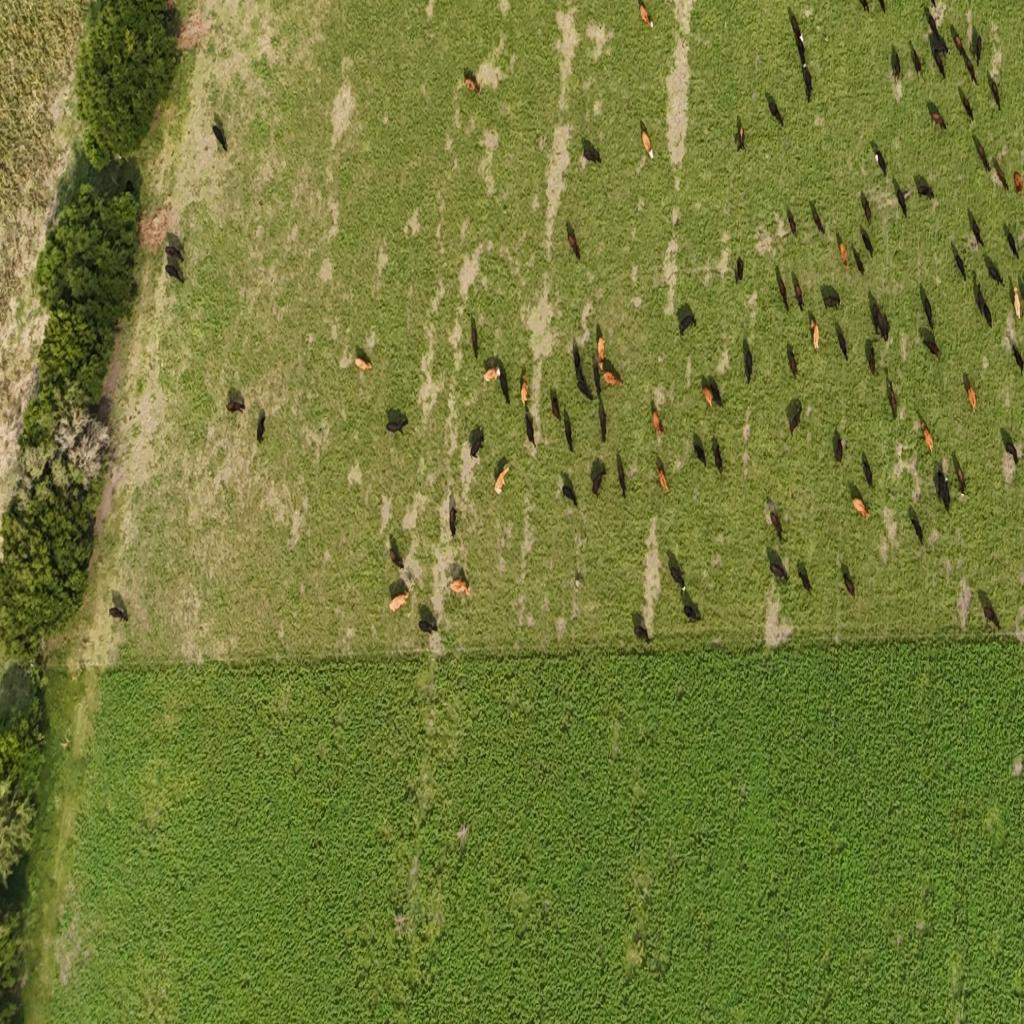cow: (979, 590, 1002, 633), (869, 295, 890, 342), (766, 546, 789, 584), (590, 456, 607, 500), (984, 252, 1004, 289), (952, 453, 968, 498), (926, 98, 946, 134), (677, 302, 697, 338), (973, 134, 991, 174), (668, 551, 686, 590), (920, 281, 934, 330), (968, 208, 984, 250), (908, 507, 924, 548), (682, 590, 702, 622), (920, 330, 941, 360), (958, 85, 974, 124), (632, 612, 651, 644), (871, 140, 887, 178), (787, 398, 802, 438), (914, 173, 935, 201), (640, 121, 654, 163), (592, 356, 605, 401), (987, 73, 1002, 112), (952, 244, 967, 283), (561, 474, 578, 508), (385, 409, 408, 434), (820, 284, 842, 310), (776, 265, 788, 312), (581, 138, 601, 166), (767, 93, 783, 128), (835, 320, 848, 362), (788, 9, 804, 43), (919, 418, 934, 454), (566, 221, 580, 259), (601, 364, 623, 388), (469, 425, 484, 460), (494, 464, 510, 496), (797, 561, 812, 595), (994, 157, 1009, 191), (841, 564, 855, 600), (498, 362, 510, 404), (1004, 224, 1018, 260), (692, 432, 706, 468), (164, 237, 184, 262), (563, 408, 574, 453), (389, 537, 404, 570), (811, 201, 825, 236), (388, 590, 410, 612), (212, 123, 228, 153), (616, 451, 626, 499), (769, 510, 784, 542), (832, 428, 844, 468), (970, 25, 982, 65), (894, 185, 908, 219), (801, 64, 813, 103), (910, 42, 923, 78), (887, 377, 898, 419), (597, 397, 607, 443), (743, 338, 753, 384), (524, 406, 535, 447), (793, 271, 804, 311), (852, 497, 870, 521), (712, 436, 723, 475), (787, 342, 798, 381), (890, 44, 901, 83), (861, 225, 874, 258), (932, 48, 946, 78), (464, 68, 480, 94), (852, 244, 865, 276), (166, 261, 184, 284), (860, 191, 872, 225), (550, 387, 561, 424), (862, 452, 873, 489), (639, 2, 654, 29), (418, 614, 438, 634), (652, 404, 664, 437), (866, 340, 876, 378), (470, 316, 479, 358), (711, 381, 725, 408), (576, 379, 592, 402), (810, 316, 820, 352), (735, 116, 745, 152), (450, 579, 471, 596), (967, 382, 978, 414), (702, 381, 714, 410), (109, 604, 128, 622), (1006, 438, 1019, 464), (449, 494, 457, 536), (928, 13, 940, 41), (787, 204, 797, 237), (657, 466, 669, 493), (483, 365, 501, 383), (596, 336, 606, 368), (796, 39, 807, 68), (520, 373, 529, 407), (256, 410, 265, 444), (1016, 338, 1024, 376), (983, 303, 994, 330), (354, 356, 372, 372), (573, 354, 585, 378), (975, 282, 984, 314), (226, 399, 245, 414), (839, 242, 849, 270), (966, 57, 976, 85), (943, 476, 950, 514), (735, 254, 744, 283), (930, 43, 950, 55), (1018, 283, 1024, 321), (936, 470, 943, 502), (954, 32, 964, 54), (574, 569, 583, 592), (1018, 170, 1024, 195)
